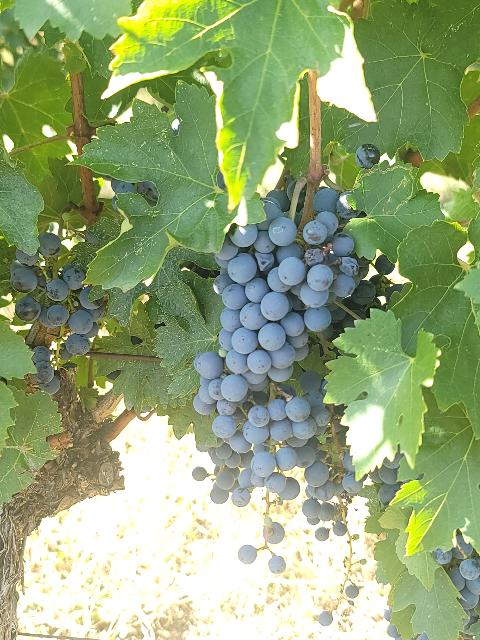grapes: (194, 188, 376, 415), (10, 232, 102, 360), (239, 395, 331, 500), (31, 345, 60, 394), (266, 521, 285, 544), (269, 555, 286, 574)
